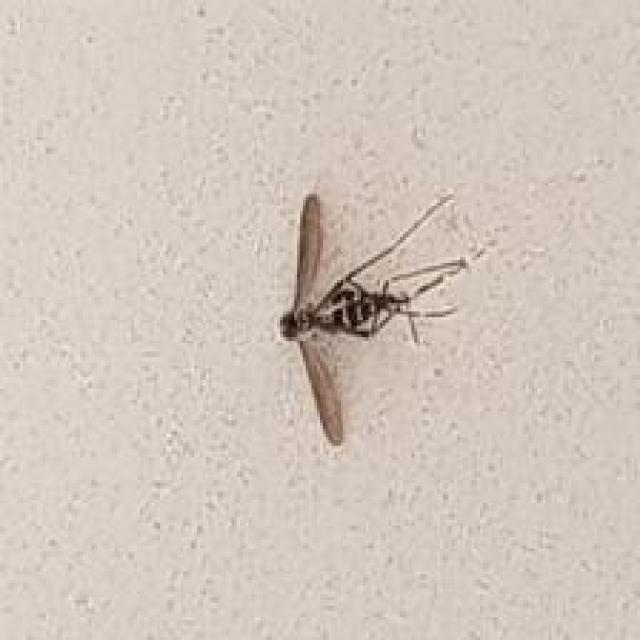Aedes albopictus: (276, 188, 481, 446)
